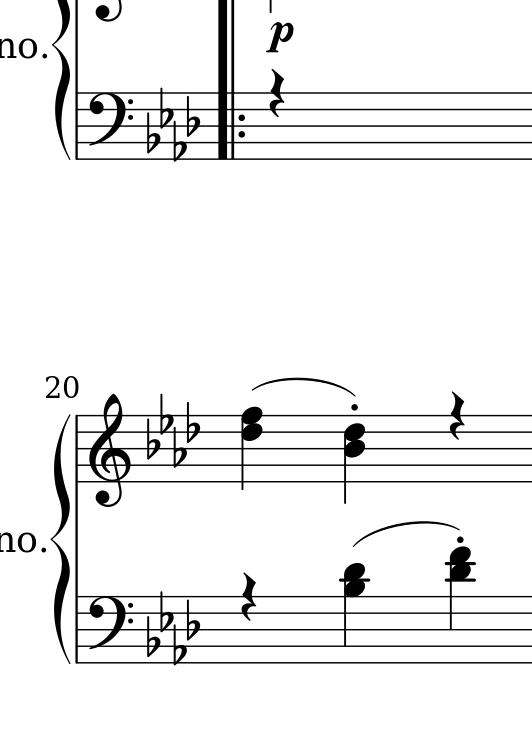0: (62, 371, 80, 401)
2: (44, 372, 61, 399)
4_11_13: (445, 545, 476, 666)
4_4_6: (343, 412, 366, 504)
4_6_8: (240, 405, 263, 493)
4_9_11: (340, 563, 370, 664)
A_F: (145, 588, 200, 667), (143, 87, 200, 162), (145, 392, 200, 468)
Brace: (49, 413, 70, 666)
Fclef: (86, 90, 134, 162), (87, 593, 133, 665)
Gclef: (89, 391, 128, 507)
LeftRepeatSign: (214, 91, 249, 158)
Rests4: (447, 388, 468, 441), (269, 68, 286, 120), (242, 572, 257, 622)
Single_barline: (70, 413, 86, 483), (72, 595, 85, 663), (72, 88, 83, 160)
Slur: (350, 519, 464, 550), (250, 376, 356, 399)
p: (267, 19, 293, 54)
